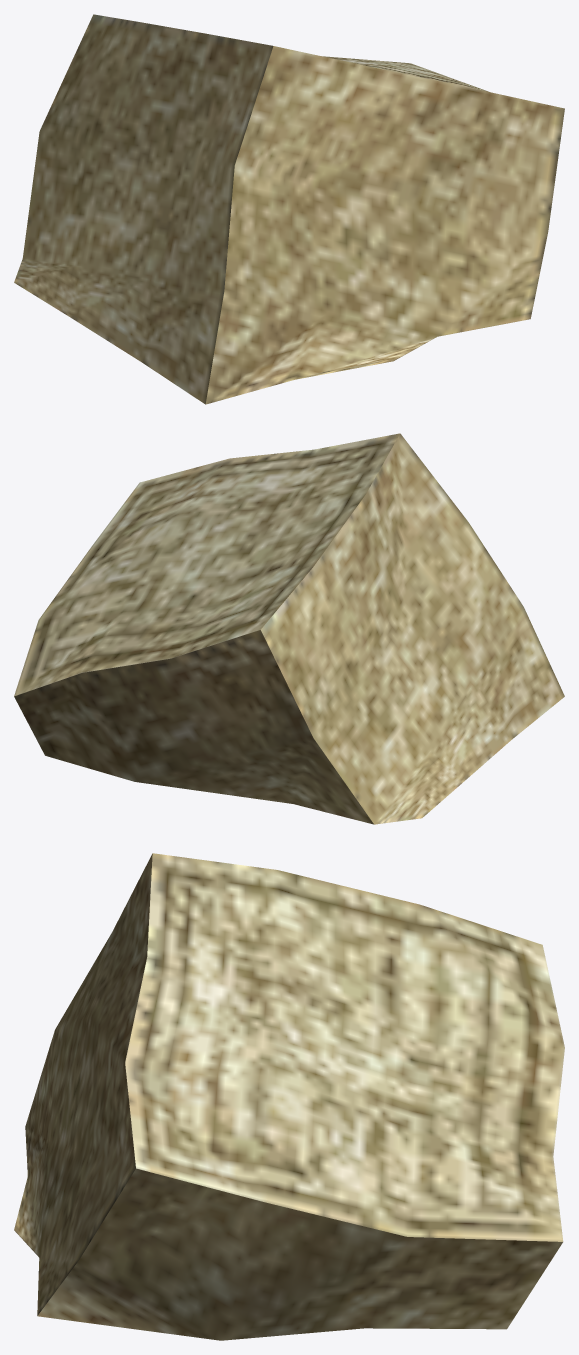
Rendered from ob-bigstone03.fbx.
3 views of the same model, one above another, from view 1: azimuth 30°, elevation 25°; view 2: azimuth 150°, elevation 25°; view 3: azimuth 270°, elevation 25° (orthographic). The views are drawn at different scales.
Parts seen in each view (by area): view 1: Box01; view 2: Box01; view 3: Box01.
Part boxes in pixels (box(x1,y1,x2,y2)): Box01: box(14, 14, 564, 404); Box01: box(14, 433, 564, 824); Box01: box(14, 853, 564, 1340).
Bounding box in the file's own units: 4.16 × 2.71 × 3.93.
